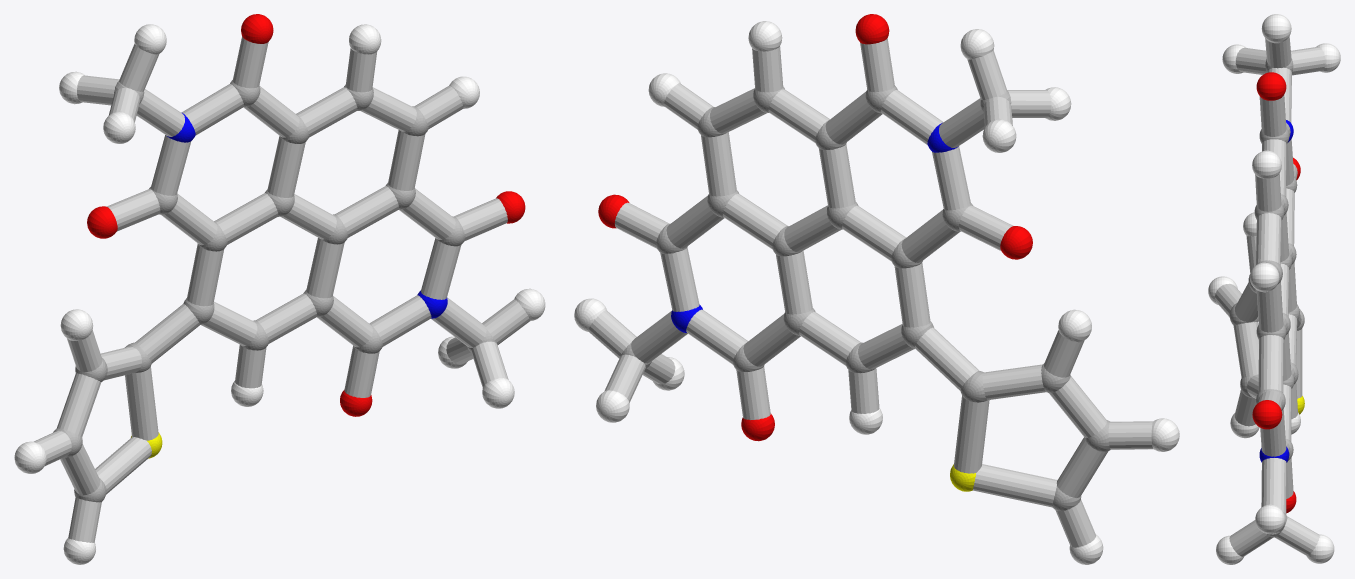
File: Dimethyl_Naphthalene_Dicarboximide_Phi_25_Theta_350_Thiophene.glb
The picture shows the model from 3 angles, left to right: view 1: azimuth 30°, elevation 25°; view 2: azimuth 150°, elevation 25°; view 3: azimuth 270°, elevation 25°; orthographic projection. The views are drawn at different scales.
Visible parts, largest first — view 1: grp14119, grp7241, grp1, grp12309, grp11585; view 2: grp14119, grp7241, grp1, grp12309, grp11585; view 3: grp14119, grp7241, grp1, grp12309, grp11585.
Boxes of the visible parts, box(x1,y1,x2,y2) form: grp14119: box(33, 36, 530, 542); grp7241: box(14, 24, 545, 564); grp1: box(53, 80, 495, 502); grp12309: box(87, 14, 525, 416); grp11585: box(167, 112, 447, 318); grp14119: box(588, 38, 1153, 547); grp7241: box(574, 21, 1179, 564); grp1: box(621, 86, 1110, 511); grp12309: box(598, 14, 1032, 441); grp11585: box(671, 122, 958, 332); grp14119: box(1215, 36, 1325, 556); grp7241: box(1208, 14, 1340, 564); grp1: box(1229, 58, 1304, 537); grp12309: box(1252, 72, 1300, 513); grp11585: box(1259, 120, 1293, 462).
Size of the model in its own units: 11.75 by 10.24 by 2.67.
